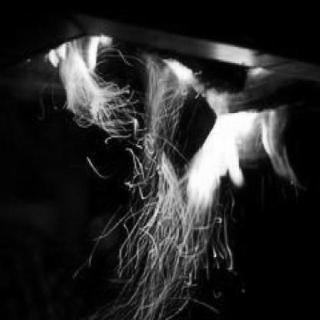Fire: (34, 34, 290, 272)
